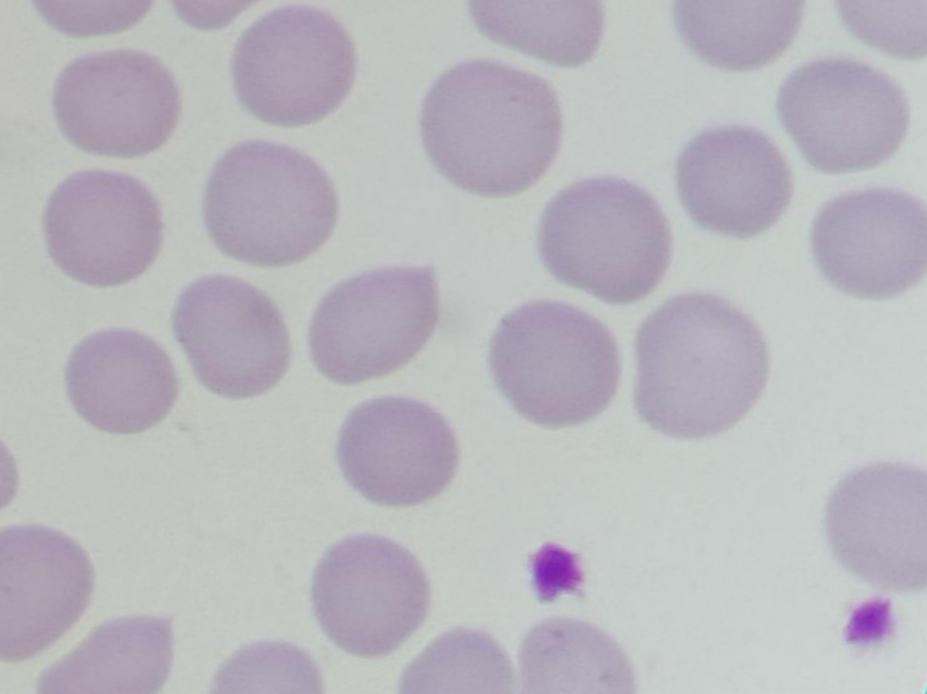Uninfected: (420, 58, 563, 199), (634, 292, 769, 439), (206, 142, 342, 264), (310, 263, 440, 389), (491, 302, 624, 425), (541, 176, 670, 299), (230, 9, 357, 129), (176, 275, 294, 401), (314, 532, 430, 658), (779, 59, 909, 169), (826, 456, 927, 597), (44, 170, 166, 284), (54, 52, 181, 159), (340, 396, 460, 507), (0, 522, 95, 662), (61, 326, 179, 434), (680, 125, 790, 238), (814, 185, 927, 295), (40, 612, 182, 694), (672, 0, 807, 75), (512, 619, 643, 694), (472, 0, 607, 66), (400, 627, 514, 694)
